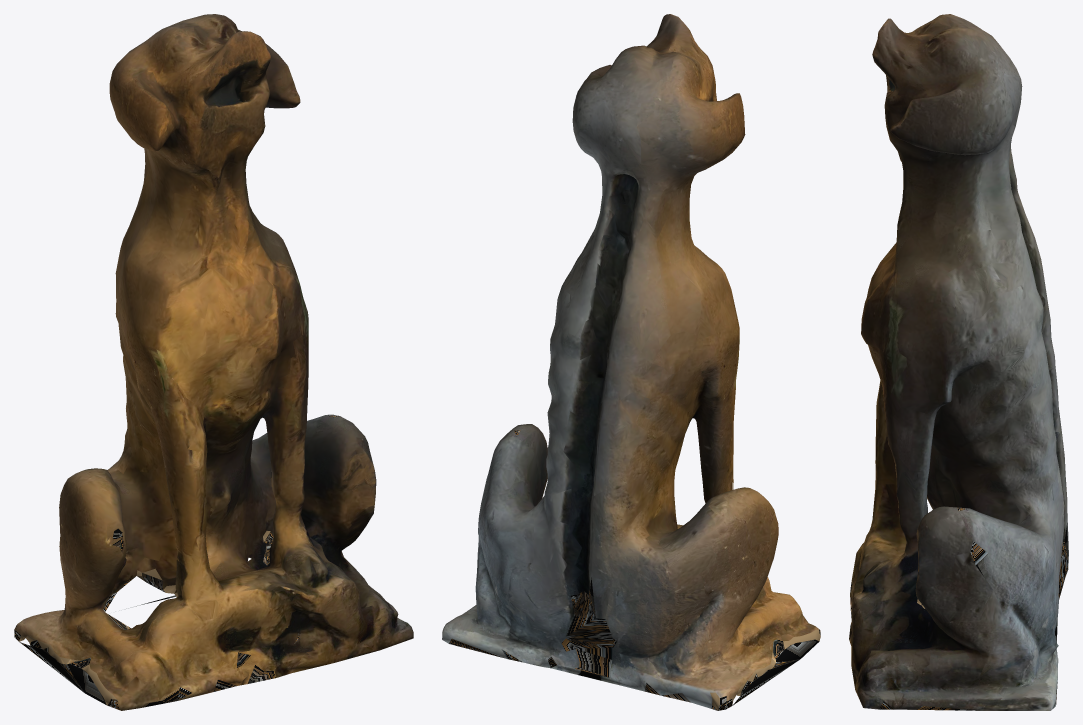
Rendered from 9_dog_with_rabbit.glb.
The picture shows the model from 3 angles, left to right: view 1: azimuth 30°, elevation 25°; view 2: azimuth 150°, elevation 25°; view 3: azimuth 270°, elevation 25°; orthographic projection. The views are drawn at different scales.
Visible parts, largest first — view 1: Mesh_0; view 2: Mesh_0; view 3: Mesh_0.
Boxes of the visible parts, x1=… form: Mesh_0: x1=14, y1=14, x2=413, y2=710; Mesh_0: x1=442, y1=14, x2=820, y2=710; Mesh_0: x1=849, y1=14, x2=1068, y2=710.
Bounding box in the file's own units: 1.02 × 2 × 0.6503.
4 materials, 4 textured.
